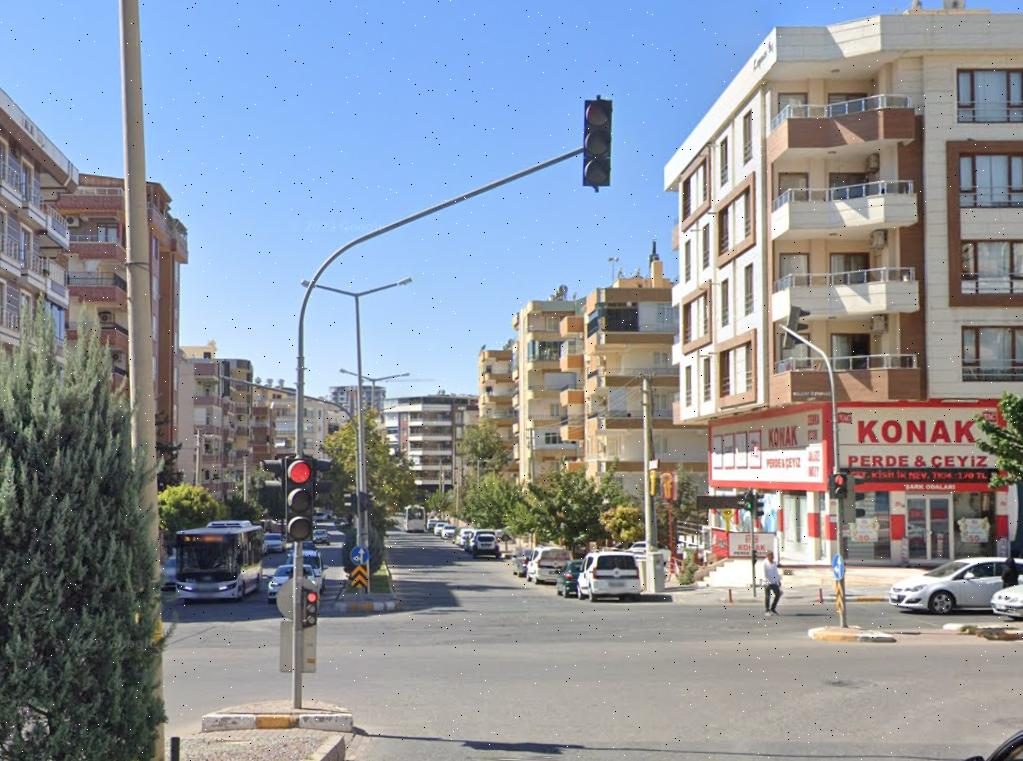redlight: (283, 455, 315, 540), (302, 587, 319, 625)
